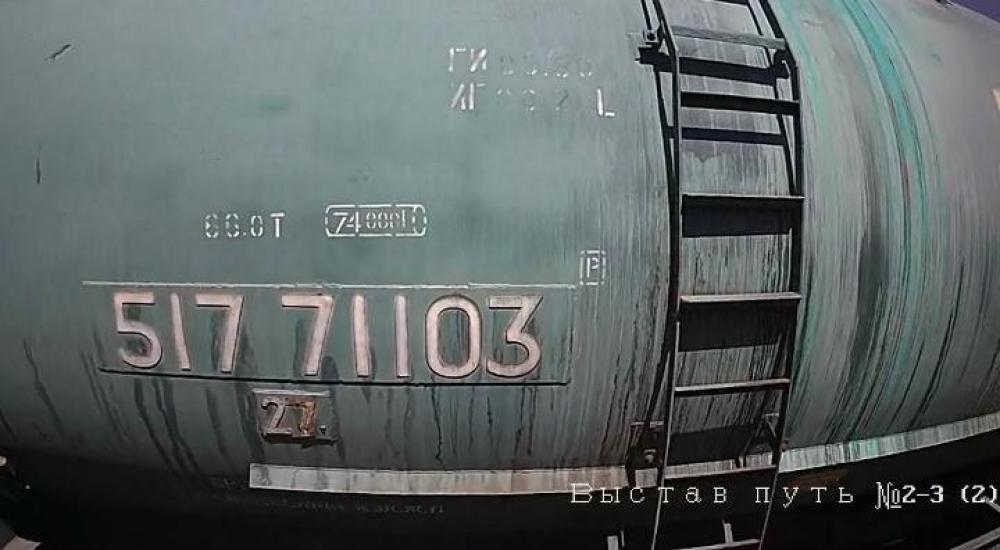Wagon-number: (109, 287, 555, 384)
